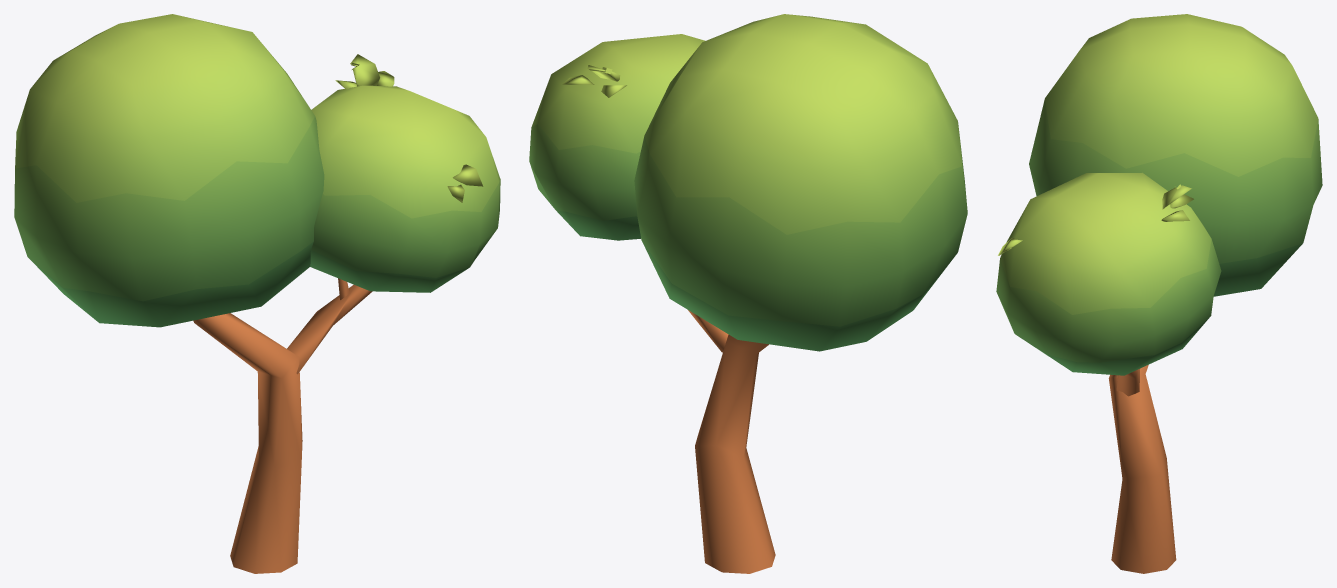
The model's file is treePine.glb.
3 views of the same model, side by side, from view 1: azimuth 30°, elevation 25°; view 2: azimuth 150°, elevation 25°; view 3: azimuth 270°, elevation 25° (orthographic). The views are drawn at different scales.
Visible parts, largest first — view 1: treePine; view 2: treePine; view 3: treePine.
Boxes of the visible parts, x1,y1,x2,y2 form: treePine: (14, 14, 500, 573); treePine: (529, 14, 967, 573); treePine: (996, 14, 1322, 573).
Bounding box in the file's own units: 1.71 × 2.08 × 1.24.
1 material, 1 textured.
